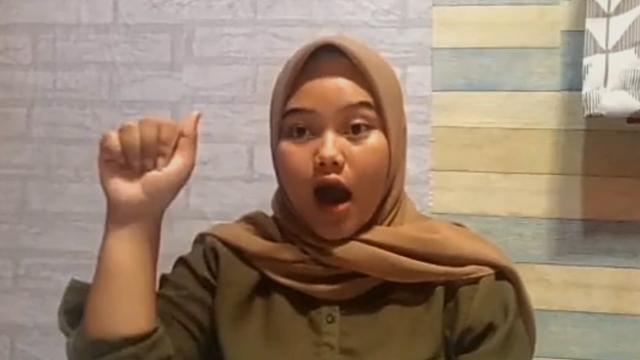A: (95, 110, 203, 214)
